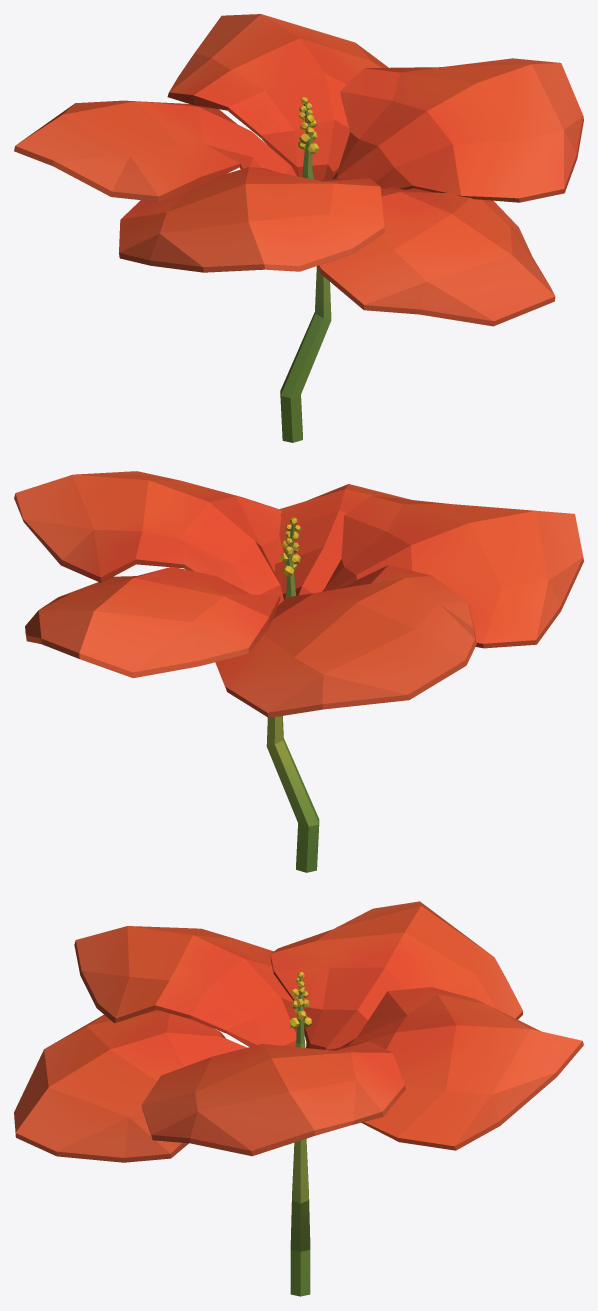
The picture shows the model from 3 angles, top to bottom: view 1: azimuth 30°, elevation 25°; view 2: azimuth 150°, elevation 25°; view 3: azimuth 270°, elevation 25°; orthographic projection. The views are drawn at different scales.
Visible parts, largest first — view 1: HibiscusFlower_mesh; view 2: HibiscusFlower_mesh; view 3: HibiscusFlower_mesh.
Part boxes in pixels (box(x1,y1,x2,y2)): HibiscusFlower_mesh: box(14, 14, 583, 442); HibiscusFlower_mesh: box(14, 471, 583, 872); HibiscusFlower_mesh: box(14, 901, 583, 1296).
Bounding box in the file's own units: 11.11 × 7.26 × 11.49.
1 material, 1 textured.
